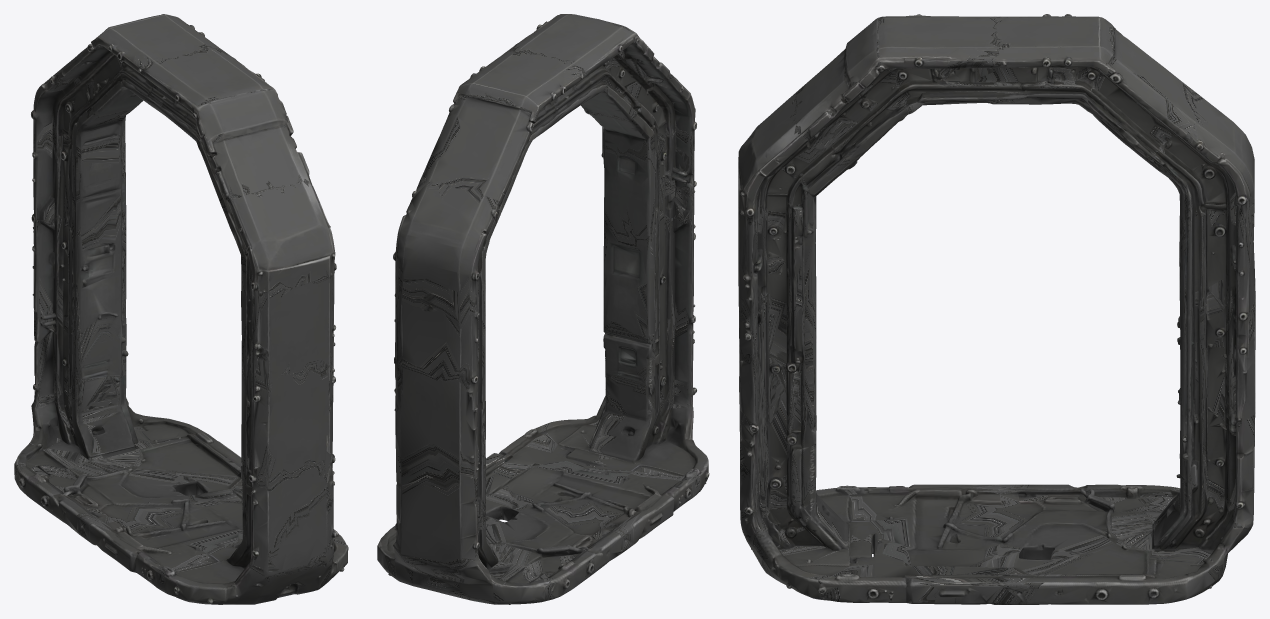
The model's file is sci_bulkhead.glb.
The picture shows the model from 3 angles, left to right: view 1: azimuth 30°, elevation 25°; view 2: azimuth 150°, elevation 25°; view 3: azimuth 270°, elevation 25°; orthographic projection. The views are drawn at different scales.
Parts seen in each view (by area): view 1: tripo_node_209fb022-e82d-428a-aa13-f3a641e16517; view 2: tripo_node_209fb022-e82d-428a-aa13-f3a641e16517; view 3: tripo_node_209fb022-e82d-428a-aa13-f3a641e16517.
Boxes of the visible parts, x1=… form: tripo_node_209fb022-e82d-428a-aa13-f3a641e16517: x1=14, y1=14, x2=348, y2=604; tripo_node_209fb022-e82d-428a-aa13-f3a641e16517: x1=377, y1=14, x2=709, y2=604; tripo_node_209fb022-e82d-428a-aa13-f3a641e16517: x1=738, y1=14, x2=1255, y2=604.
Bounding box in the file's own units: 0.4191 × 0.9999 × 0.8953.
1 material, 1 textured.
